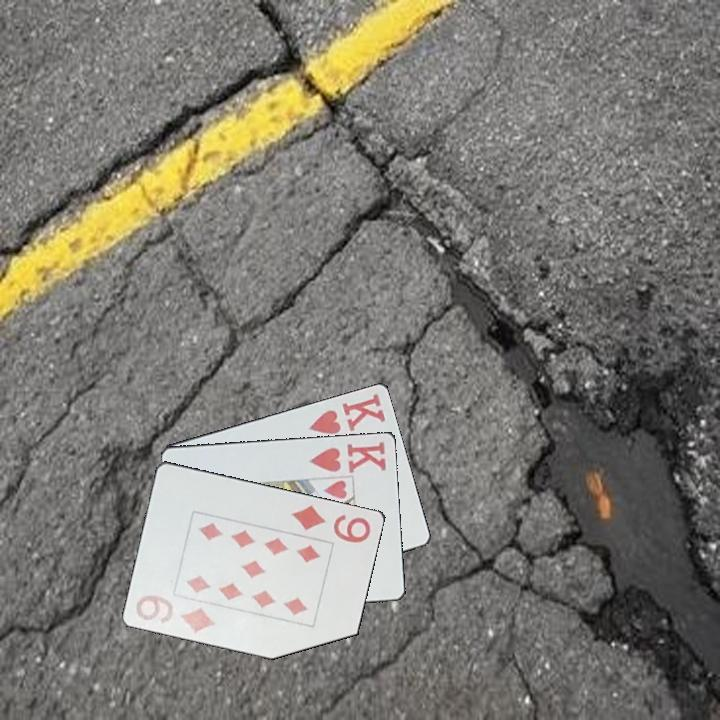9d: (132, 591, 218, 638), (287, 500, 374, 546)
Kh: (305, 390, 389, 437), (305, 438, 389, 476)
